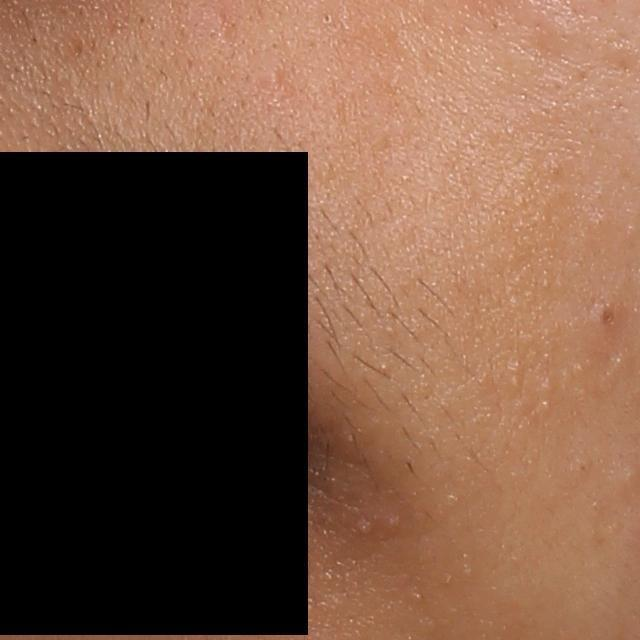comedo: (593, 302, 621, 330), (621, 464, 640, 487), (318, 8, 334, 28)
